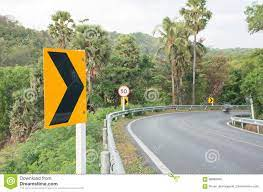right turn: (43, 49, 87, 123), (121, 96, 128, 107), (208, 97, 214, 103)
